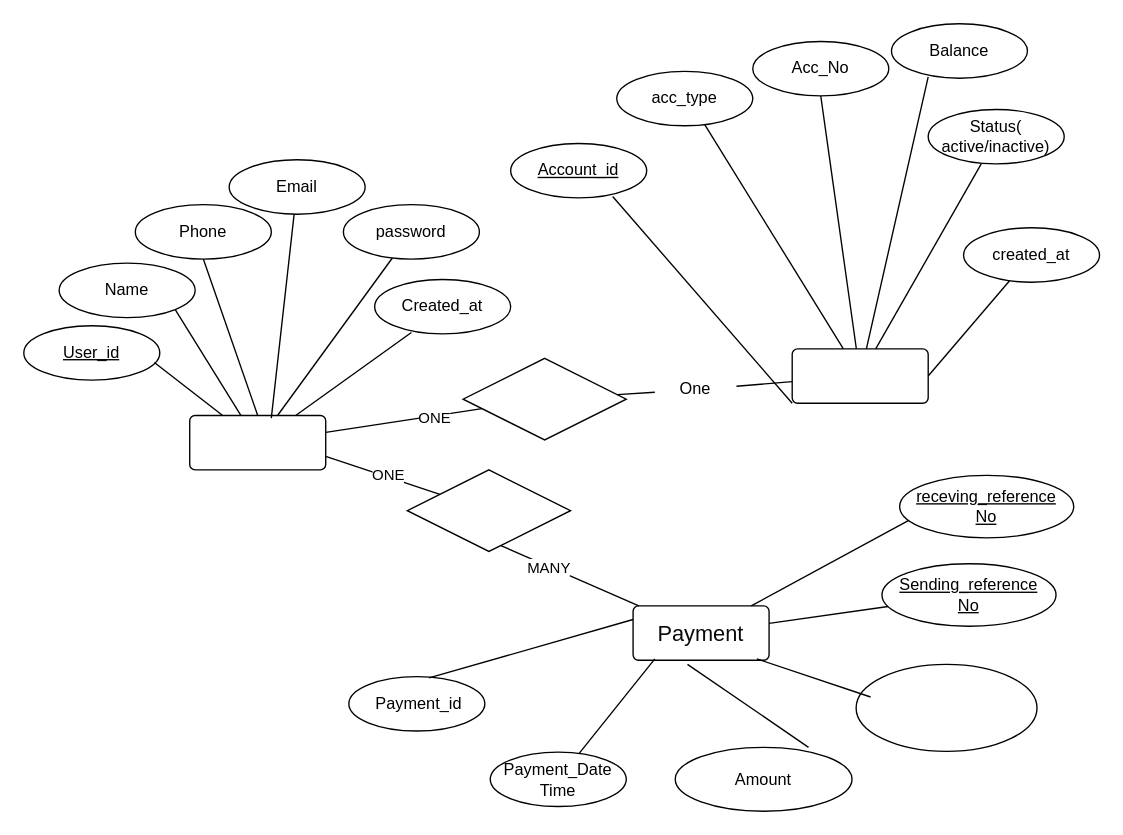
The diagram is 1123 pixels wide and 835 high, and some of its shapes have lost their labels. The centre of each missing label's shape, as x and y in pixels:
"Account" belongs at (859,375).
"MAKE" belongs at (488,510).
"OWNS" belongs at (544,398).
"Pay_method (send/recieved) (card_base)" belongs at (946,707).
"user" belongs at (257,442).
